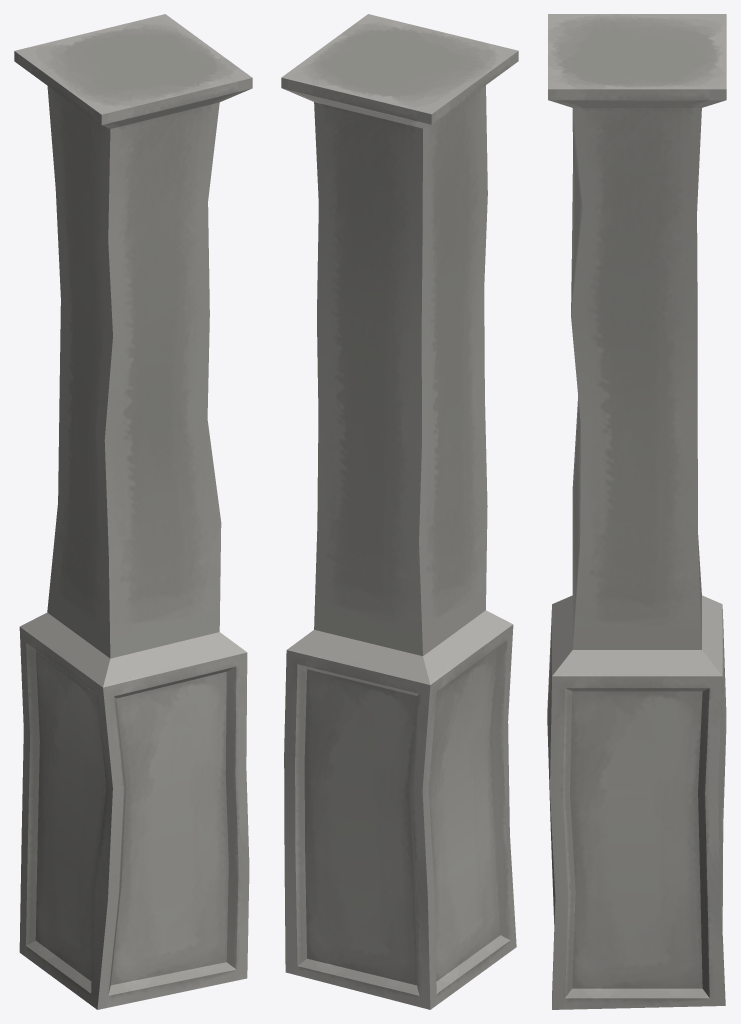
Rendered from MarblePillar03_Geo.fbx.
3 views of the same model, side by side, from view 1: azimuth 30°, elevation 25°; view 2: azimuth 150°, elevation 25°; view 3: azimuth 270°, elevation 25° (orthographic). The views are drawn at different scales.
Parts seen in each view (by area): view 1: MarblePillar03_Geo; view 2: MarblePillar03_Geo; view 3: MarblePillar03_Geo.
Boxes of the visible parts, box(x1,y1,x2,y2) form: MarblePillar03_Geo: box(14, 14, 252, 1009); MarblePillar03_Geo: box(281, 14, 518, 1009); MarblePillar03_Geo: box(547, 14, 726, 1009).
Size of the model in its own units: 31.73 by 178 by 31.37.
